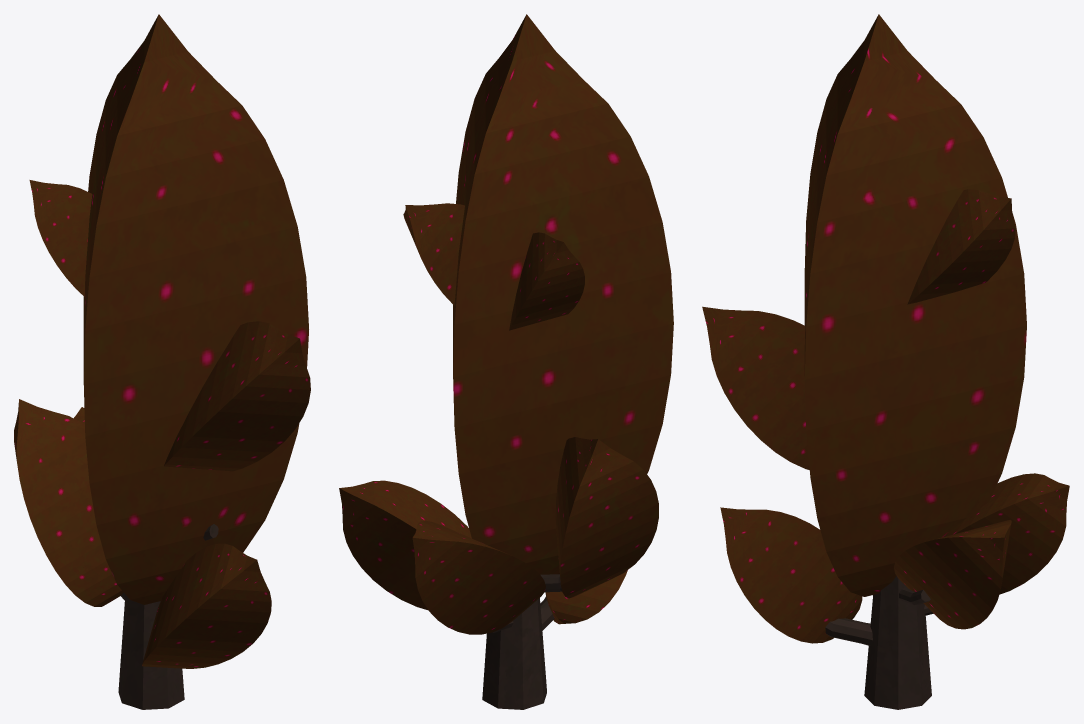
The model's file is tree-brown-red-flowers_4.fbx.
The picture shows the model from 3 angles, left to right: view 1: azimuth 30°, elevation 25°; view 2: azimuth 150°, elevation 25°; view 3: azimuth 270°, elevation 25°; orthographic projection. The views are drawn at different scales.
Parts seen in each view (by area): view 1: Icosphere.102; view 2: Icosphere.102; view 3: Icosphere.102.
Boxes of the visible parts, bbox=[...] form: Icosphere.102: bbox=[14, 14, 310, 709]; Icosphere.102: bbox=[339, 14, 673, 709]; Icosphere.102: bbox=[702, 14, 1069, 709].
Bounding box in the file's own units: 154 × 389 × 190.
